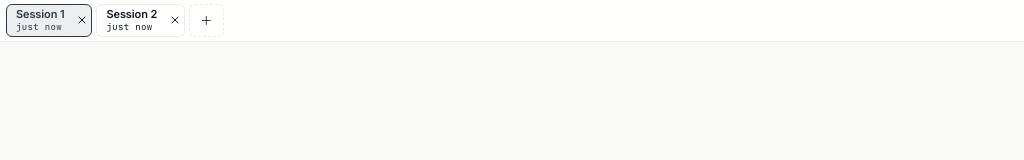
Scenario: SessionStrip (I24) › hides the delete affordance when only one session remains
Check: the tab "Session 1 just now" is shown, box [7,5,74,36]
Two sessions → two ×. After deleting one, only one remains → zero ×.
Click the button named "Delete Session 2".
click(175, 20)  # box [166,12,184,30]
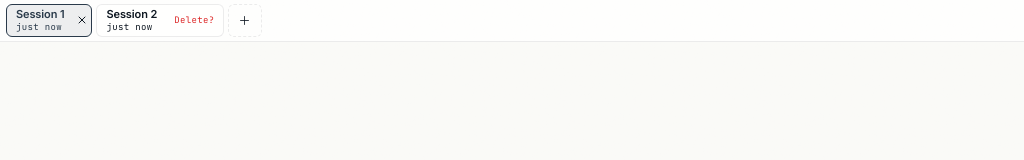
Click the button "Delete?".
click(194, 20)  # box [166,16,222,25]
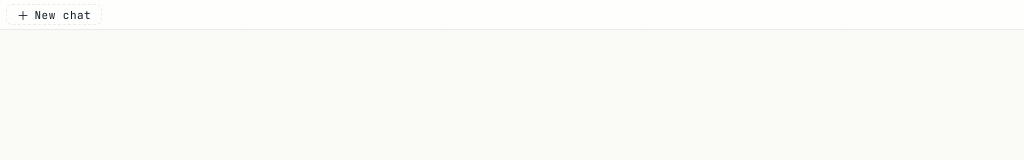
Check: the tab "Session 2" is gone
Check: no buttons "Delete?" are shown
